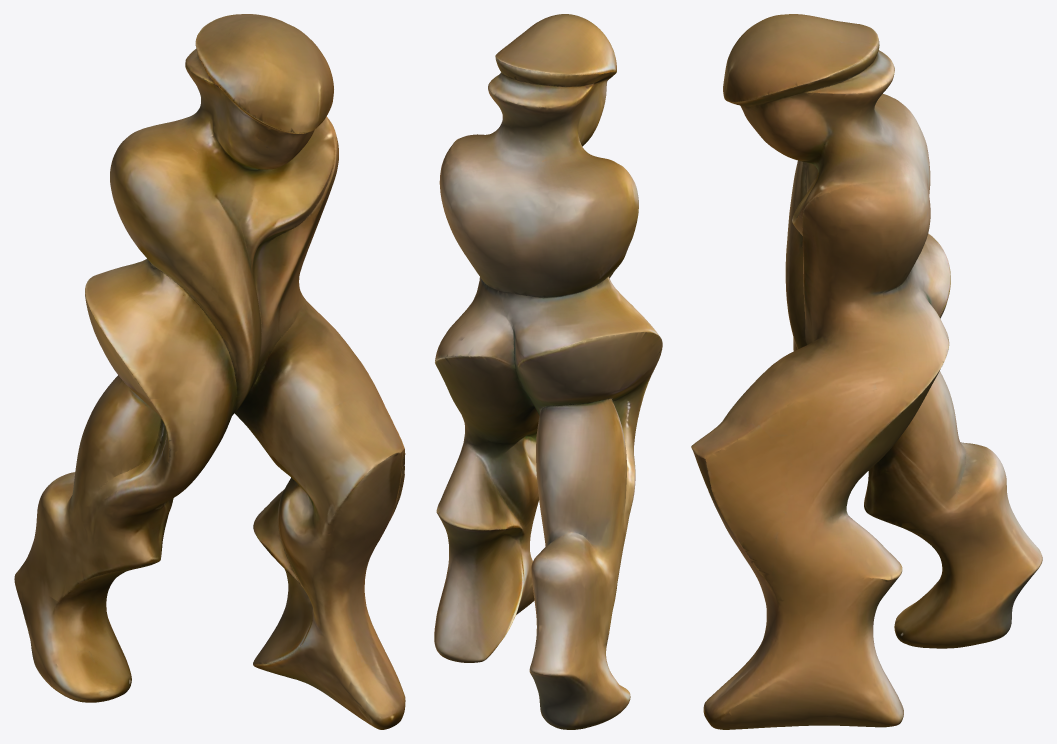
The model's file is walker.glb.
The picture shows the model from 3 angles, left to right: view 1: azimuth 30°, elevation 25°; view 2: azimuth 150°, elevation 25°; view 3: azimuth 270°, elevation 25°; orthographic projection. The views are drawn at different scales.
Visible parts, largest first — view 1: model; view 2: model; view 3: model.
Part boxes in pixels (box(x1,y1,x2,y2)): model: box(14, 14, 405, 729); model: box(434, 14, 662, 729); model: box(691, 14, 1042, 729).
Bounding box in the file's own units: 0.6859 × 1.84 × 0.8716.
Materials: 1 (1 with a texture image).
